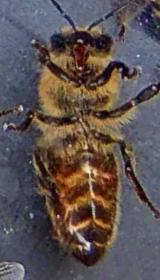varroa_mite: (96, 164, 120, 189)
